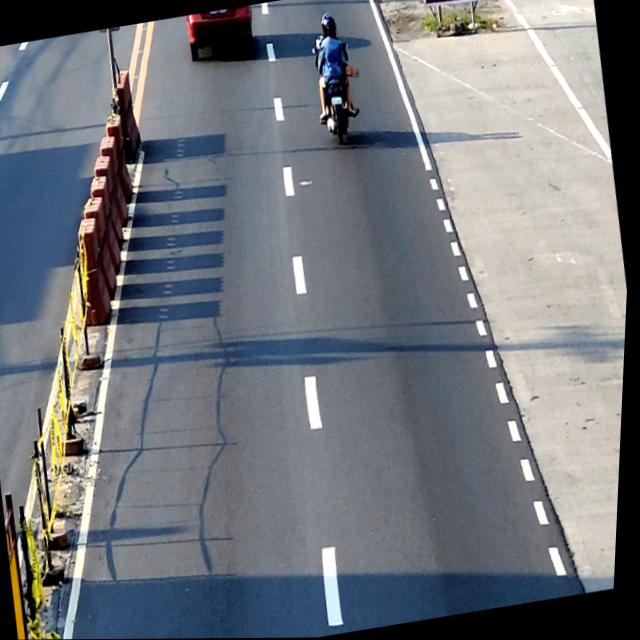Car: (184, 5, 259, 66)
License-Plate: (331, 94, 344, 108)
Motorcycle: (307, 39, 365, 150)
